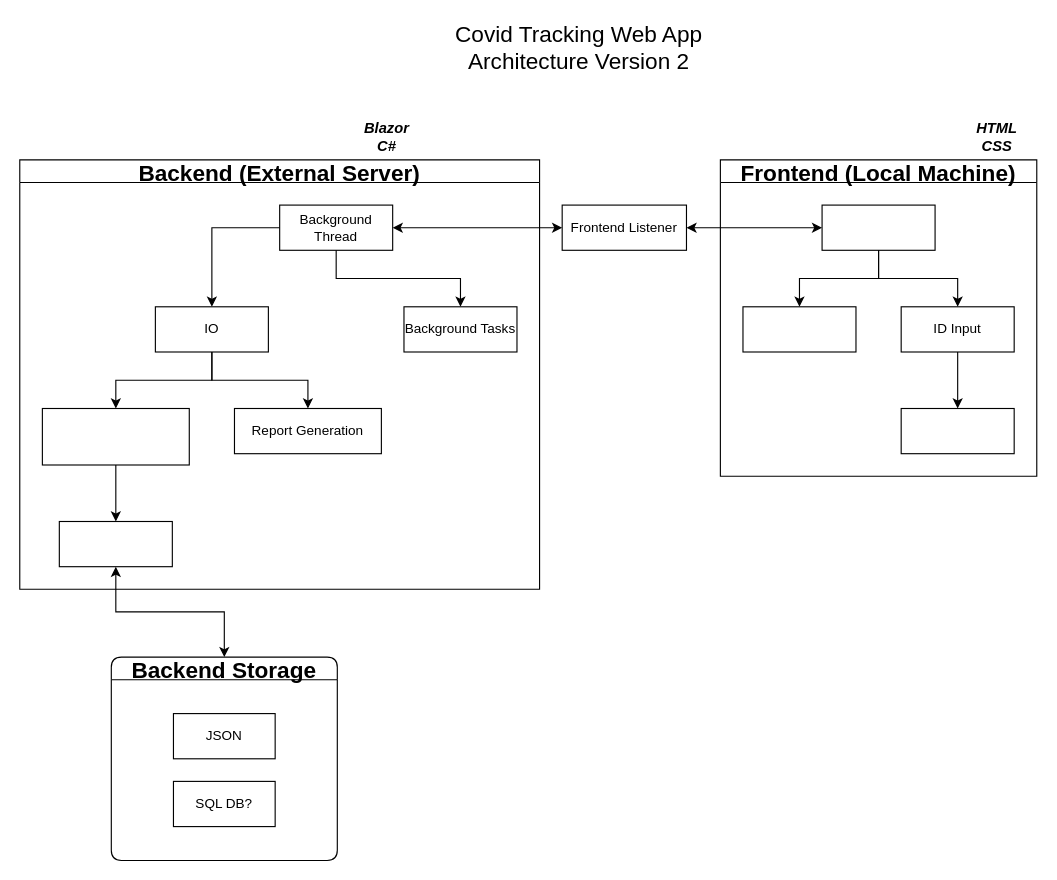
The diagram is 1057 pixels wide and 880 high, and some of its shapes have lost their labels. Each missing label, with the centre of its shape:
"Browser Storage" belongs at point (957, 430).
"Help Menu" belongs at point (799, 329).
"Internal Storage" belongs at point (115, 543).
"Verification, Encryption & Compression" belongs at point (115, 436).
"Website" belongs at point (878, 227).
